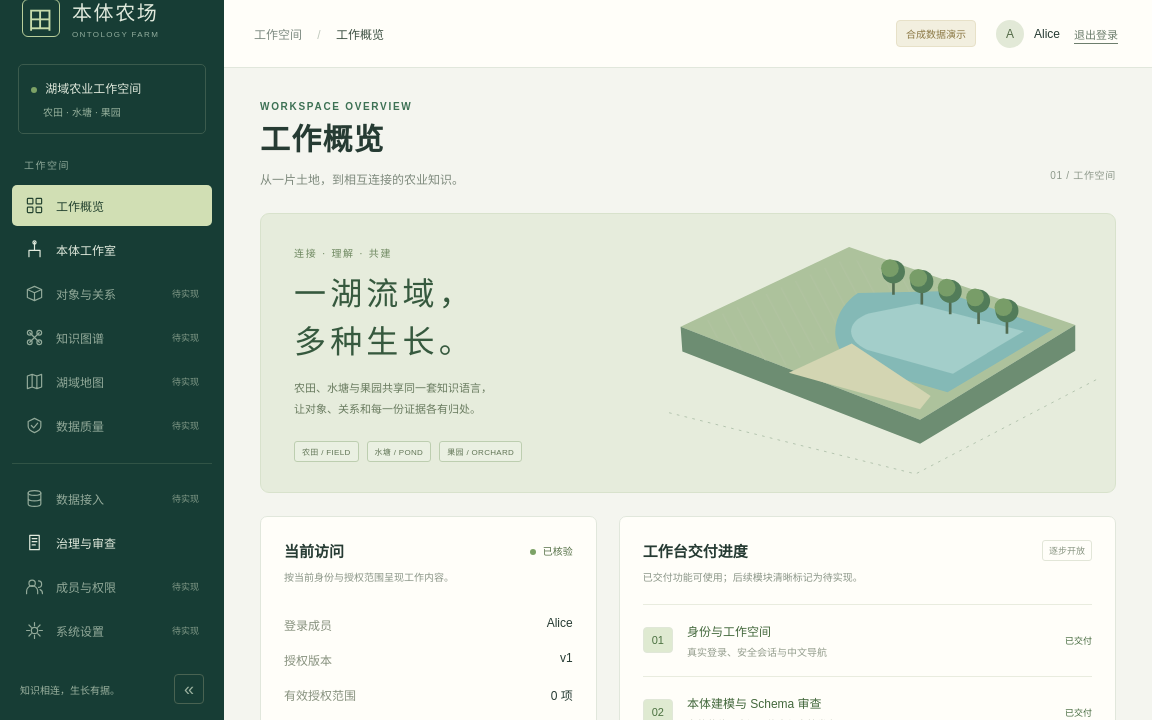
Test: preserves the mounted collapsed shell across routine checks and temporary hiding, without exposing unvalidated controls
(page scrolled)
Click the button named "折叠导航".
click(189, 689)  # box [174,674,204,704]
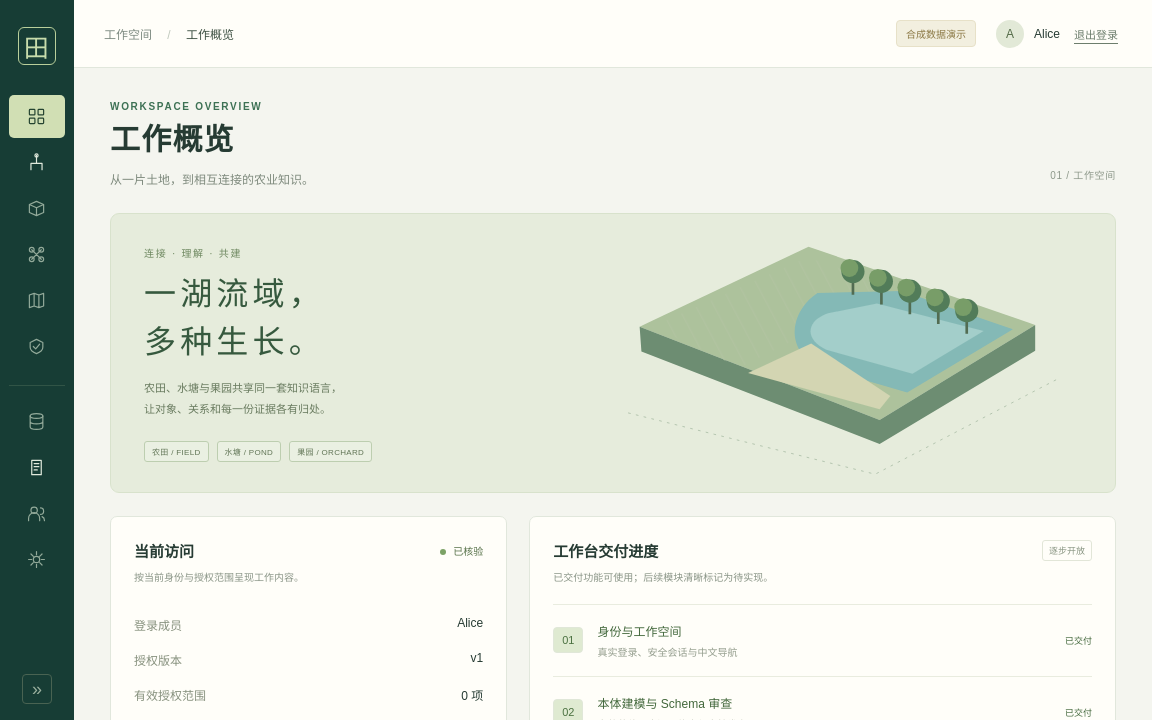
Expected: the button named "展开导航" is shown, [22,674,52,704]
